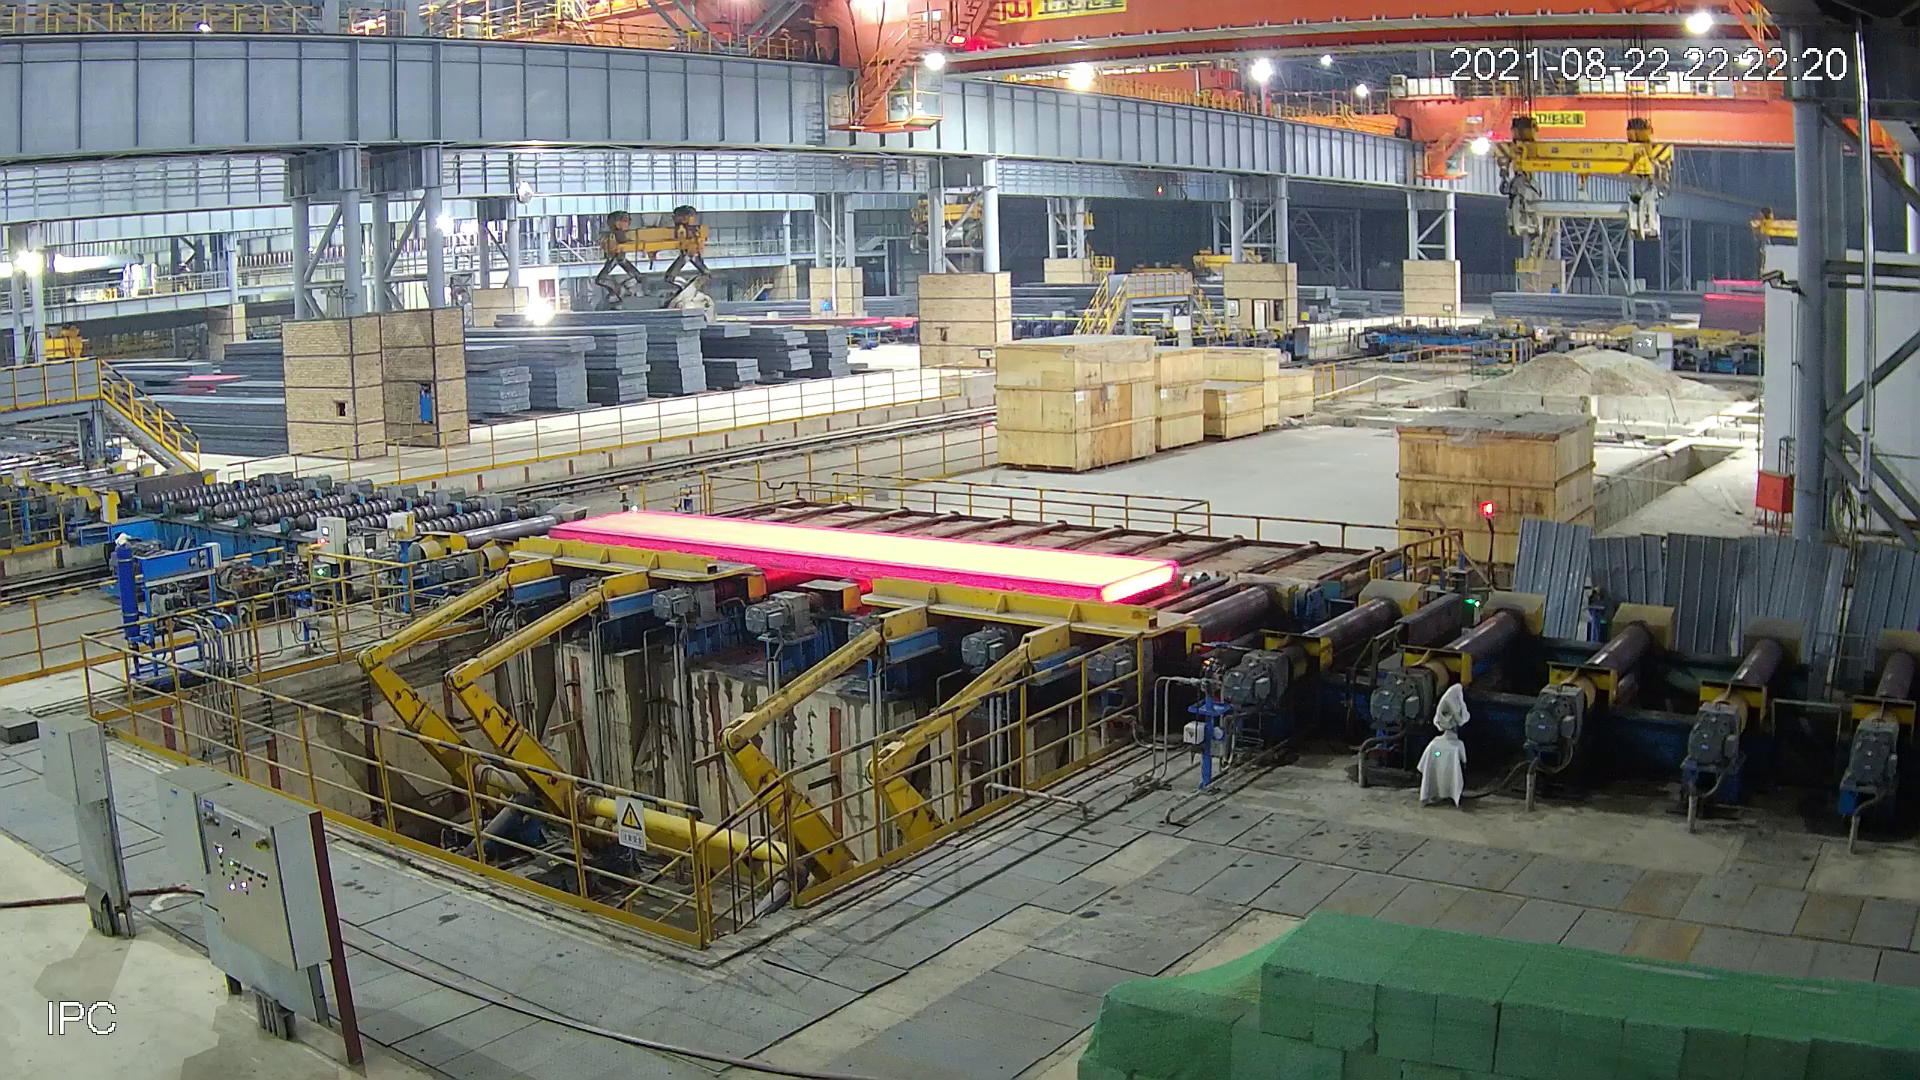slab: (549, 508, 1176, 605)
